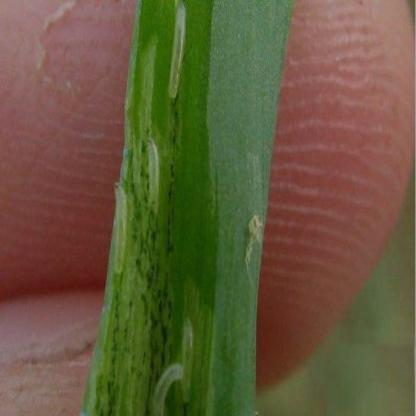whorl-maggot: (163, 0, 186, 104), (148, 359, 186, 416), (112, 181, 132, 278), (179, 313, 198, 403), (145, 130, 161, 222)
